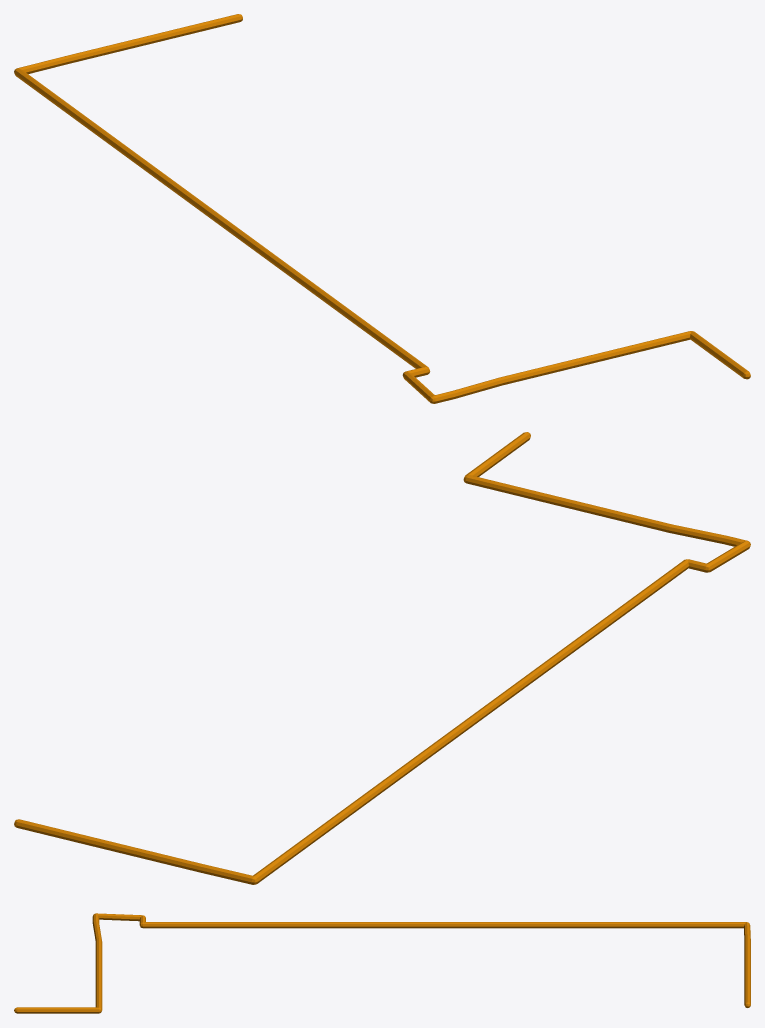
3 renders of one model, top to bottom at view 1: azimuth 30°, elevation 25°; view 2: azimuth 150°, elevation 25°; view 3: azimuth 270°, elevation 25°, orthographic. The views are drawn at different scales.
Size of the model in its own units: 701 by 20 by 2257.
